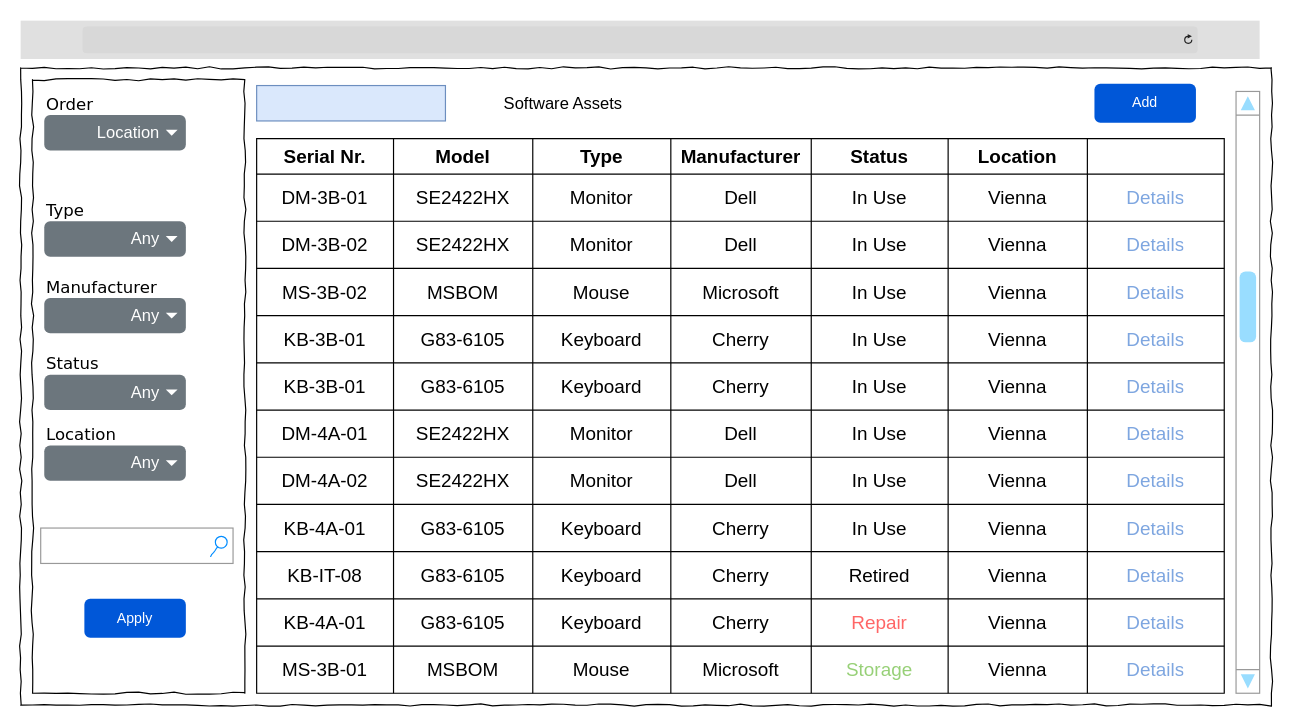
The diagram is 1292 pixels wide and 726 high, and some of its shapes have lost their labels. Each missing label, with the centre of its shape:
"companyitassets/assets/hardware" goes at pixel 639 39.
"Hardware Assets" goes at pixel 350 102.
"Search" goes at pixel 136 545.
